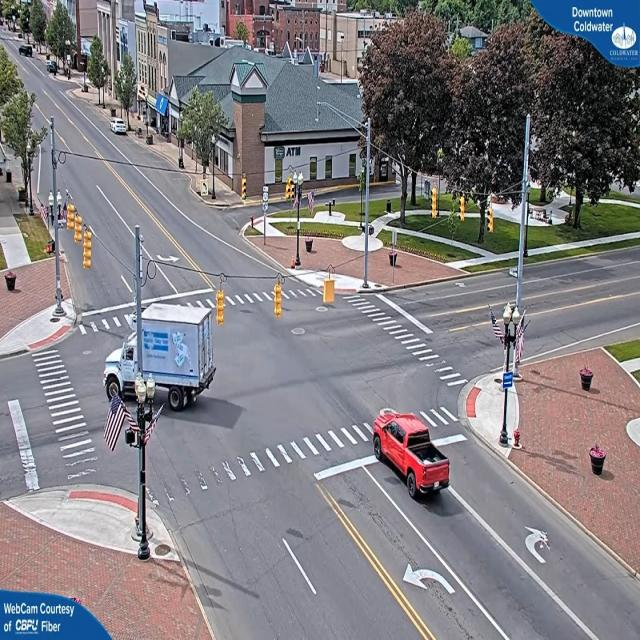car: (372, 412, 451, 503), (111, 121, 130, 138)
truck: (103, 305, 213, 411)
